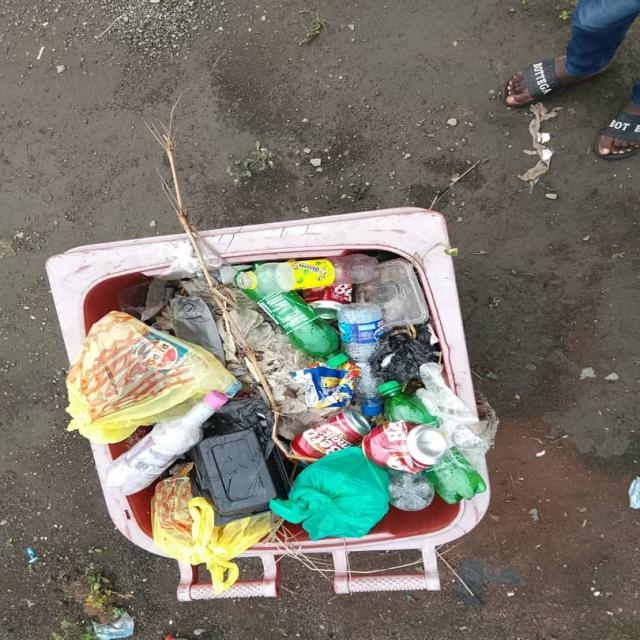full: (62, 219, 485, 552)
